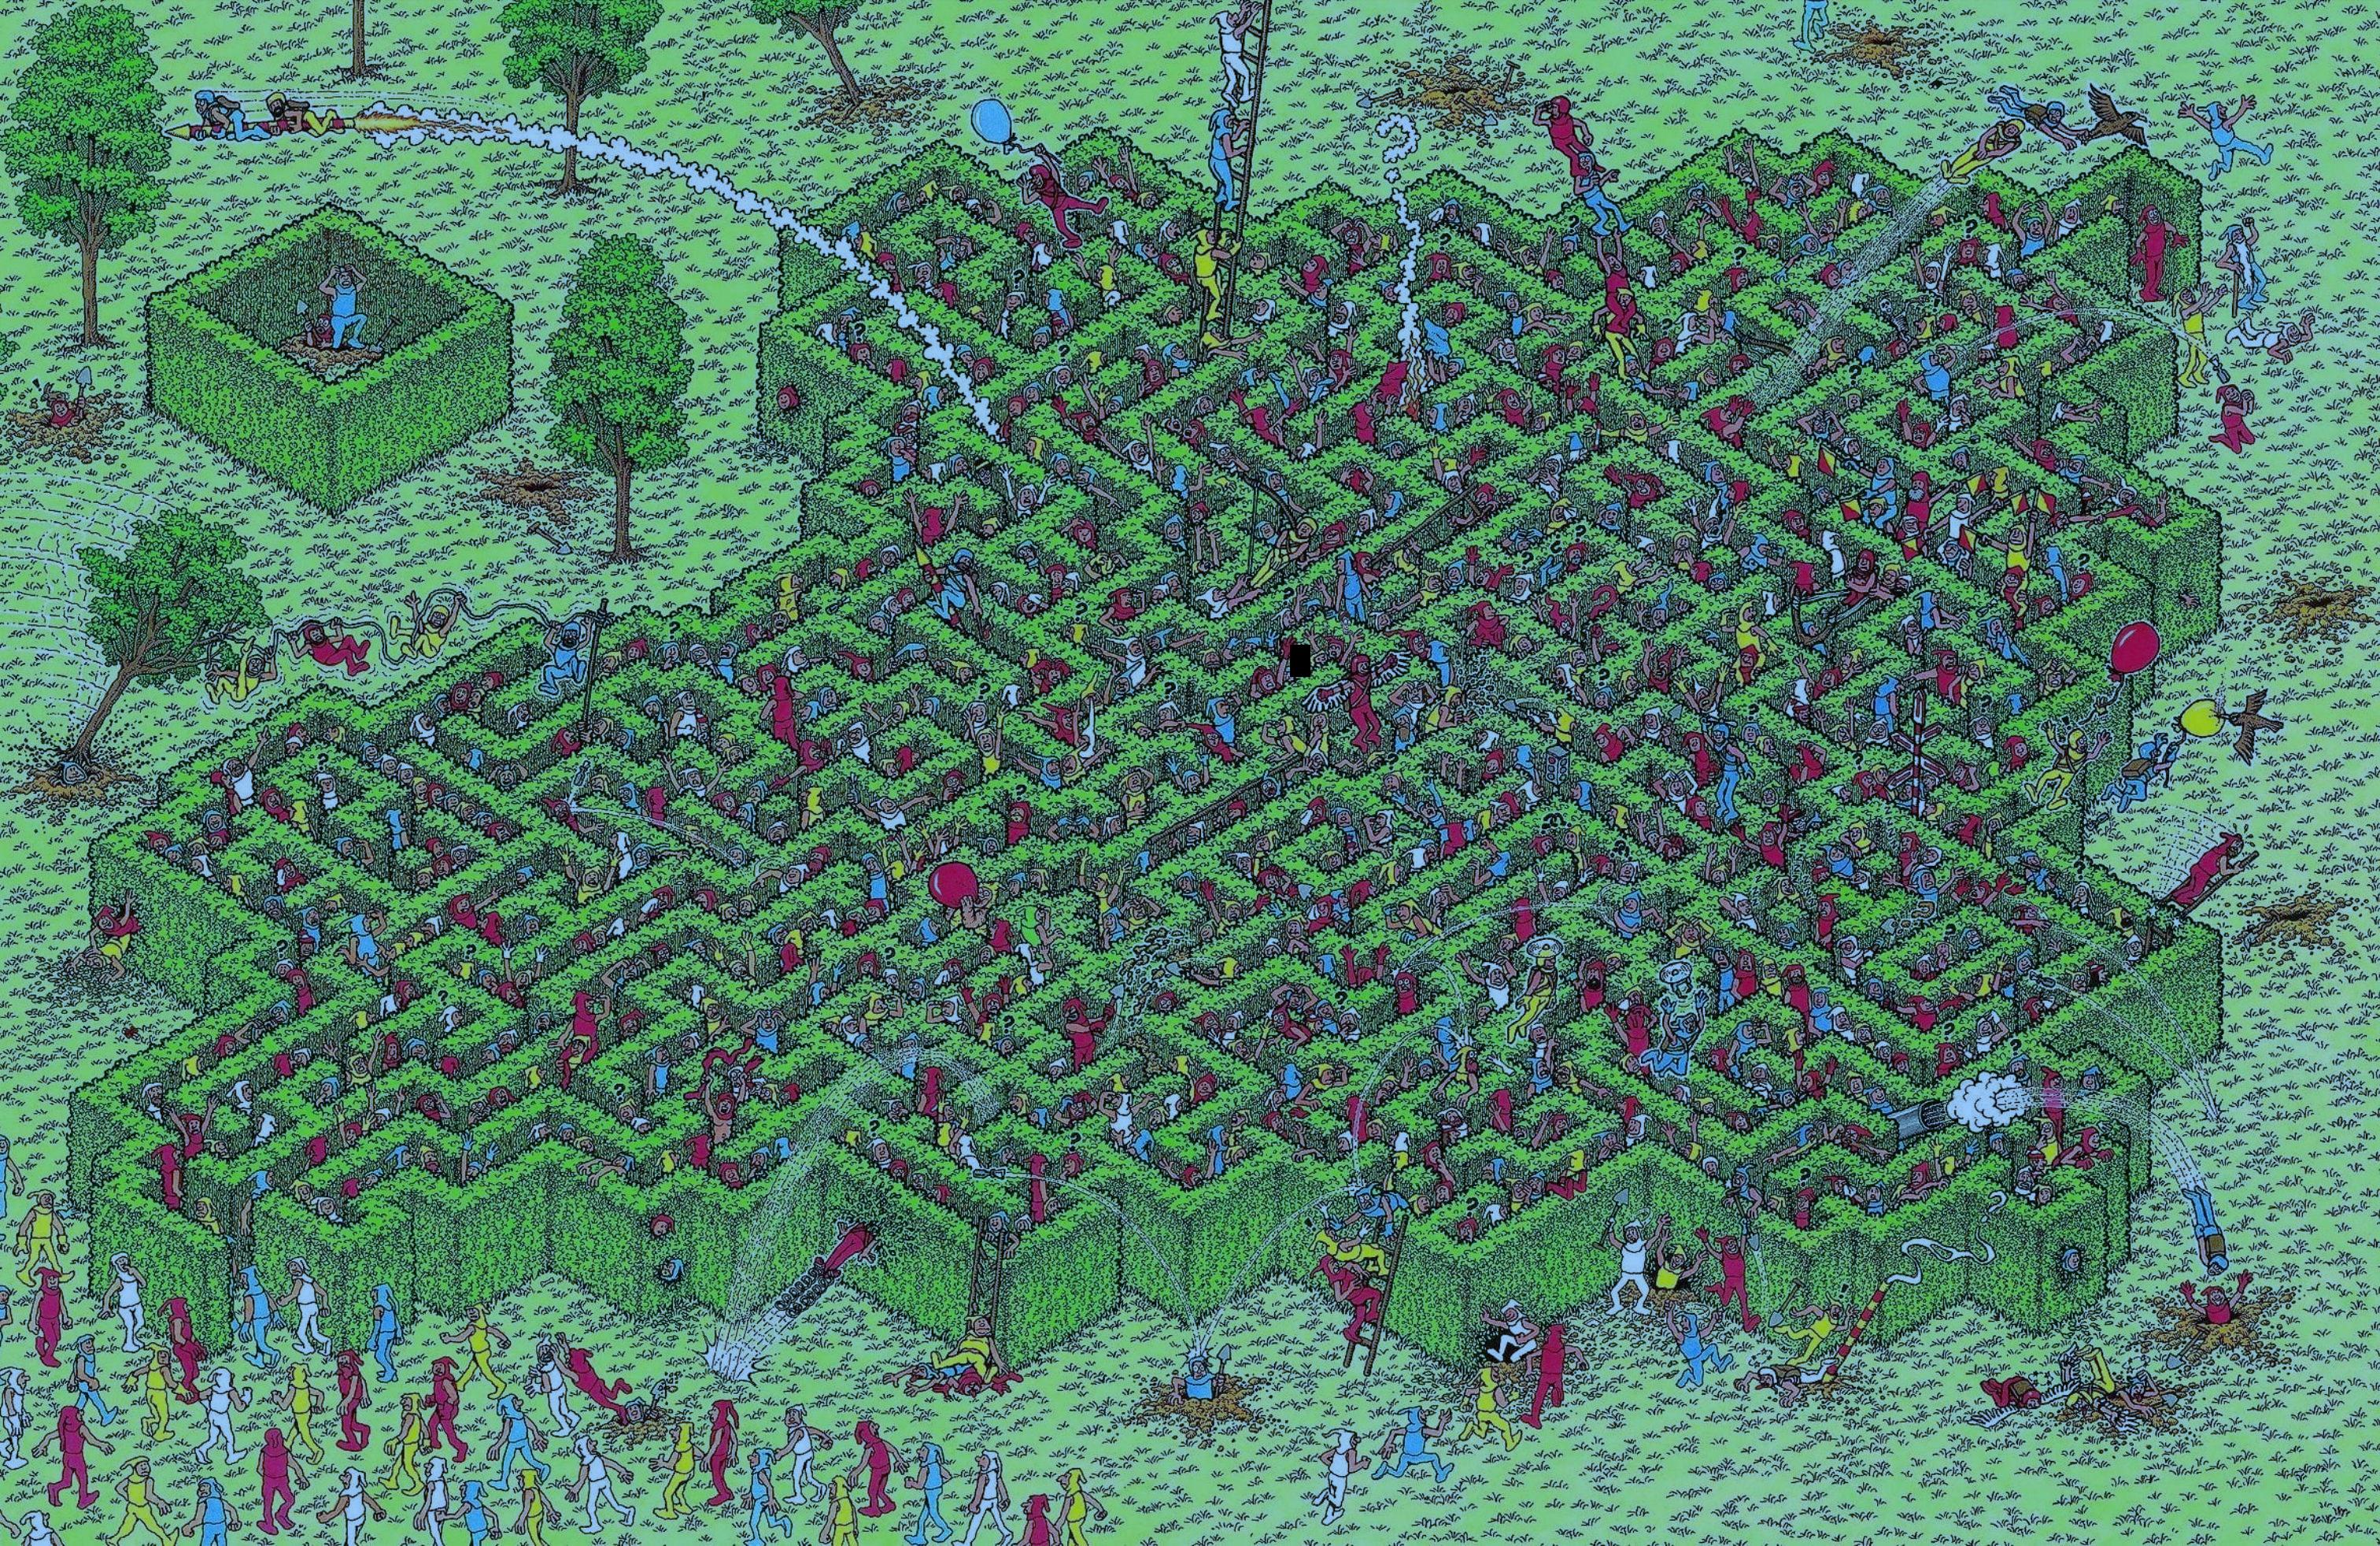waldos: (1336, 604, 1357, 635)
